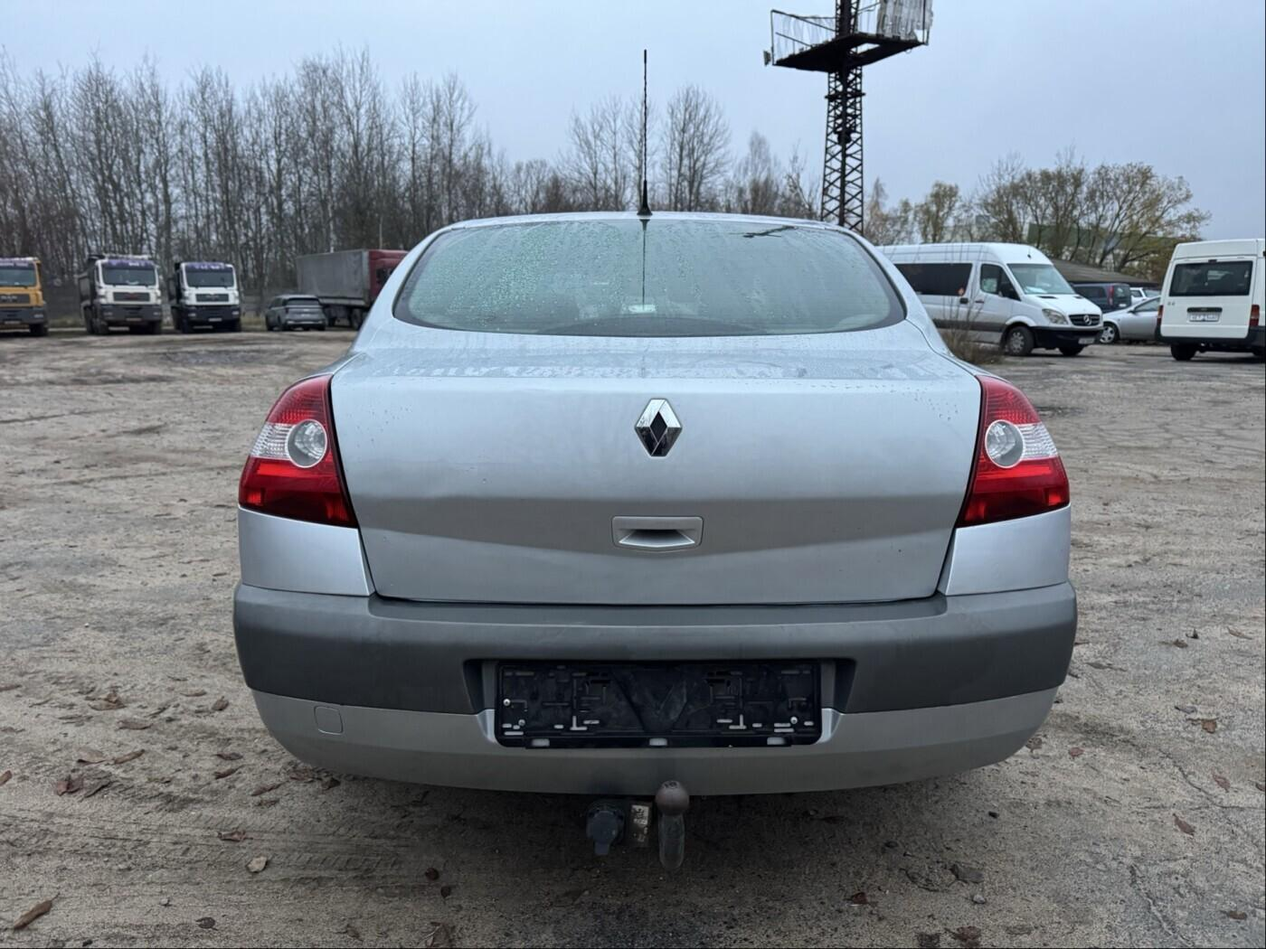Megane_2005-2009: (234, 196, 1077, 869)
